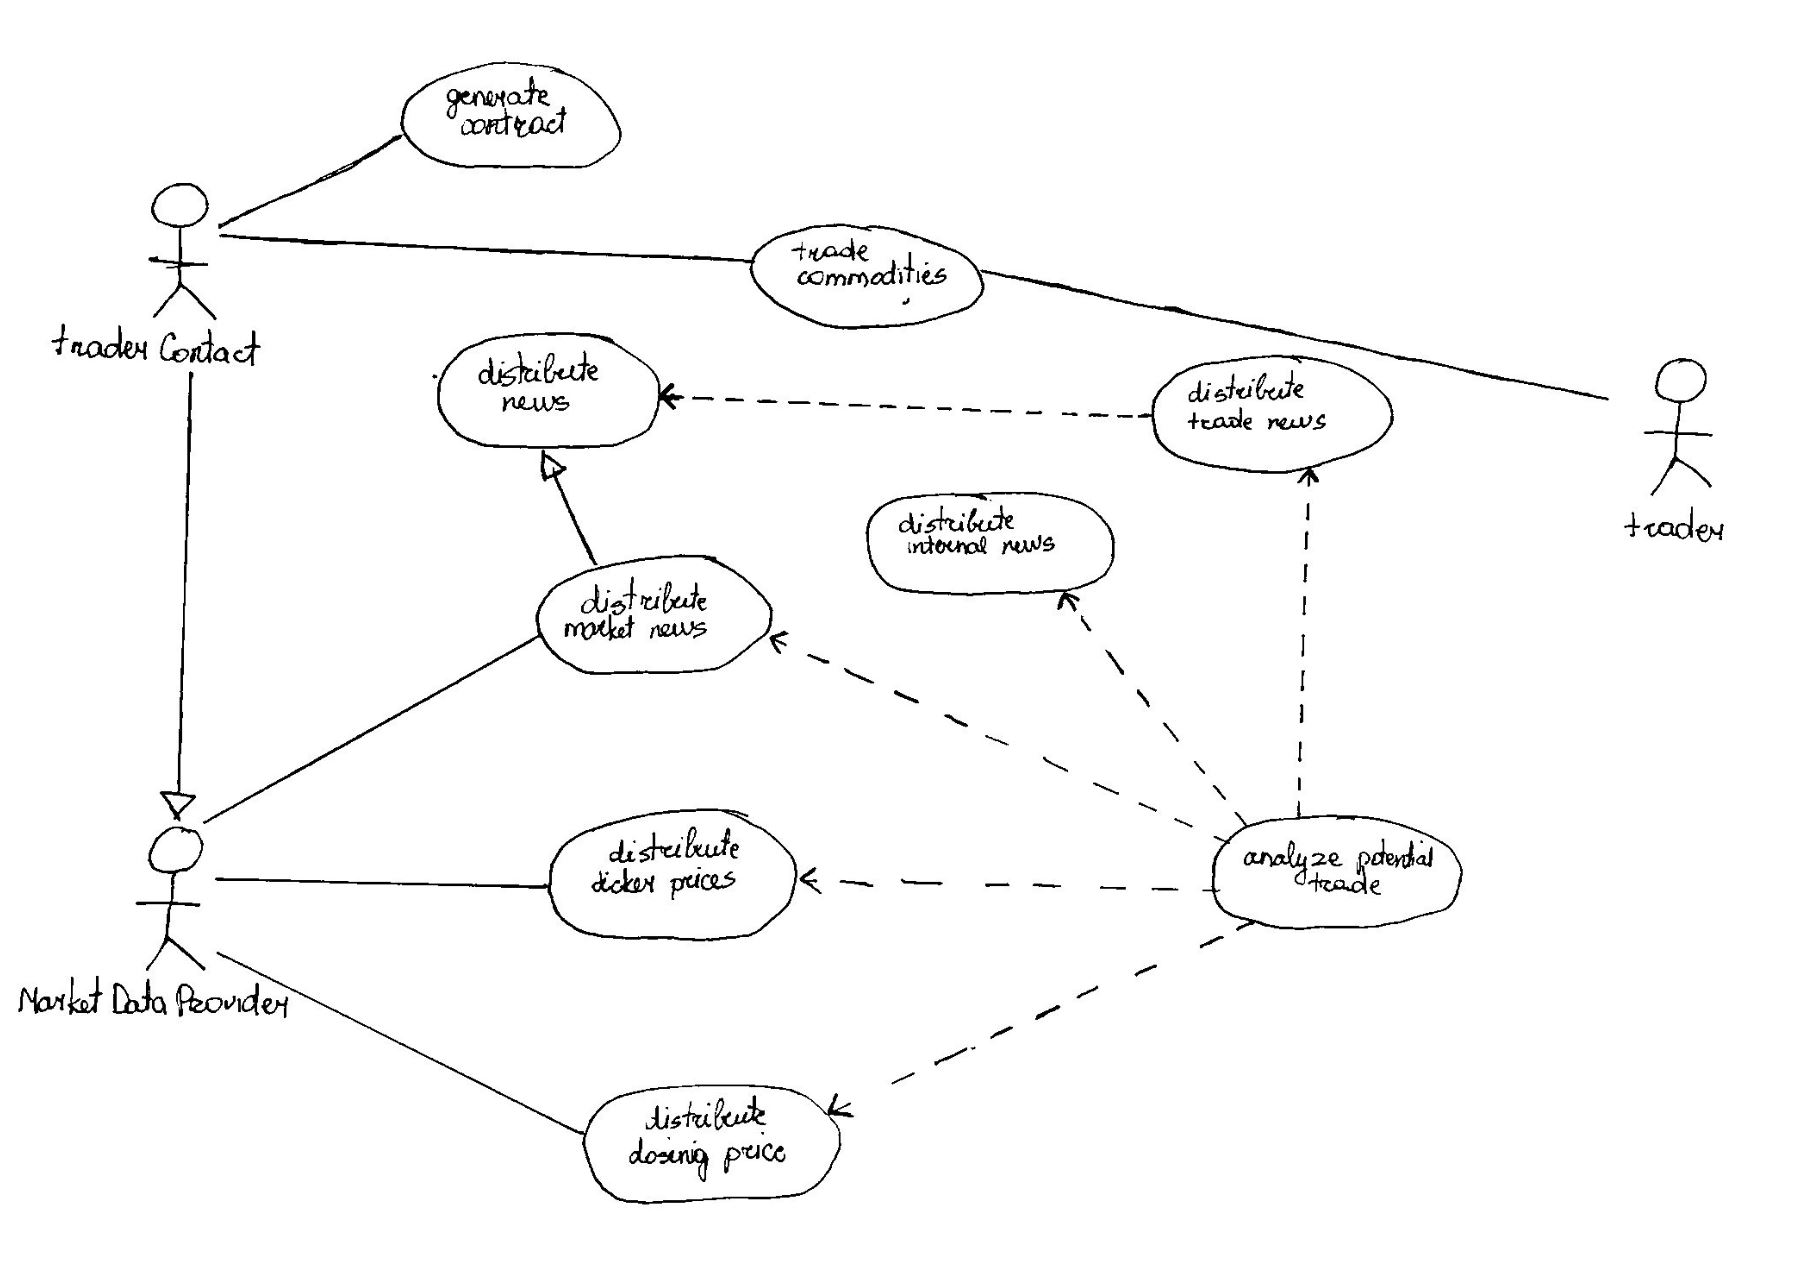actor: (1634, 351, 1729, 506), (135, 824, 213, 976), (141, 180, 218, 324)
association: (769, 628, 1221, 844), (982, 266, 1616, 402), (827, 923, 1248, 1122), (213, 946, 583, 1140), (192, 632, 541, 824), (1053, 586, 1246, 828), (212, 225, 749, 279), (659, 376, 1156, 425), (798, 858, 1210, 910), (217, 129, 400, 231), (160, 371, 198, 822), (210, 858, 547, 907), (1288, 469, 1324, 817), (538, 452, 604, 570)
text: (636, 1095, 796, 1185), (15, 976, 288, 1029), (1235, 835, 1440, 903), (35, 319, 270, 372), (583, 835, 753, 903), (894, 501, 1060, 564), (785, 231, 954, 292), (1183, 367, 1331, 436), (444, 75, 582, 144), (478, 346, 608, 416), (564, 580, 705, 645), (1626, 498, 1745, 555)
use_case: (545, 806, 800, 942), (583, 1082, 841, 1209), (1152, 353, 1395, 474), (1217, 816, 1463, 932), (538, 555, 771, 676), (433, 331, 664, 452), (865, 490, 1118, 598), (751, 220, 988, 332), (400, 59, 622, 173)
